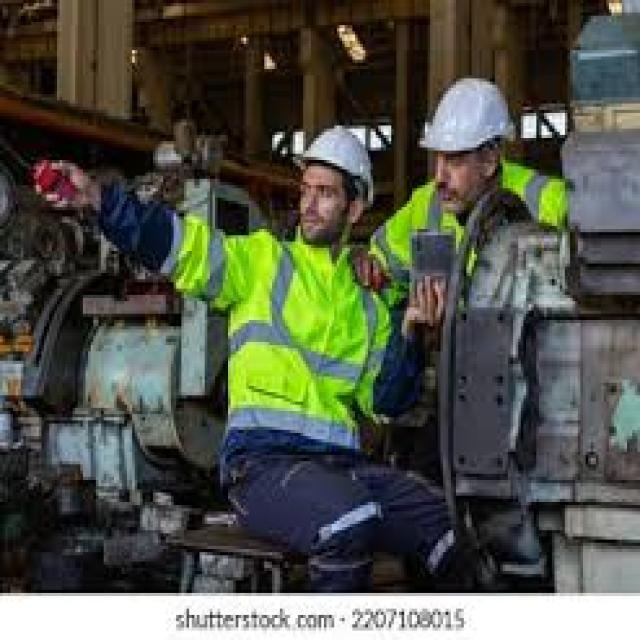vest: (90, 189, 450, 588)
